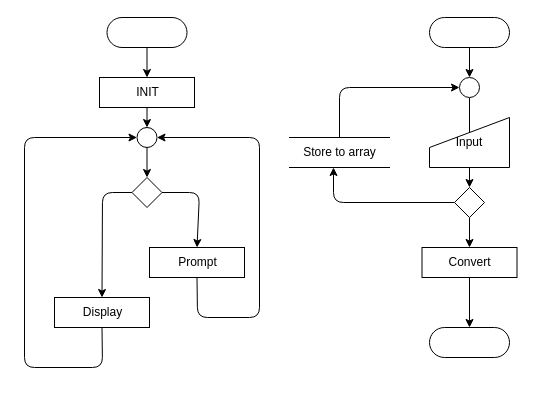
This 535x393 diagram has some shape labels left out. Here are the shapes that lost their labels. From the top down, the centre of each, then its label:
the point at 146,32: START
the point at 469,32: UART INTR
the point at 469,342: END
